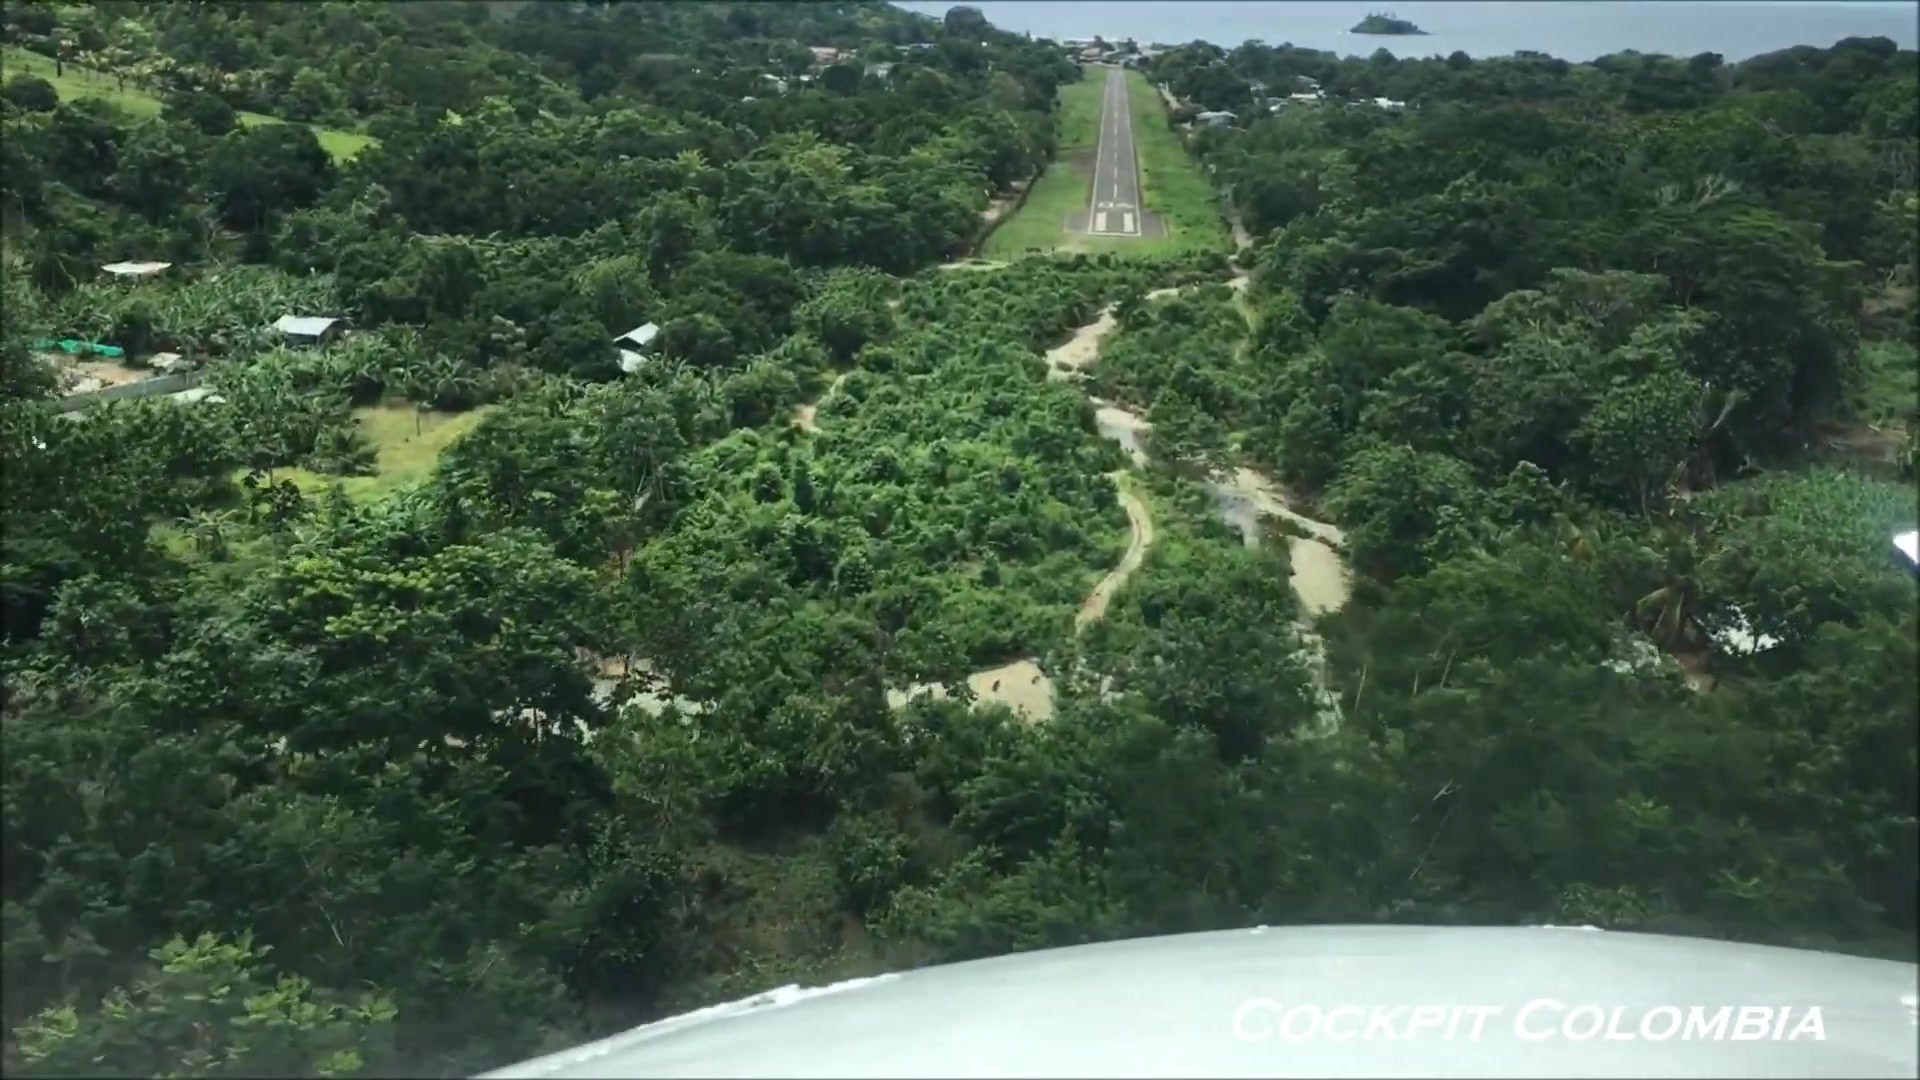entrance: (1092, 211, 1138, 233)
runway: (1087, 69, 1143, 237)
